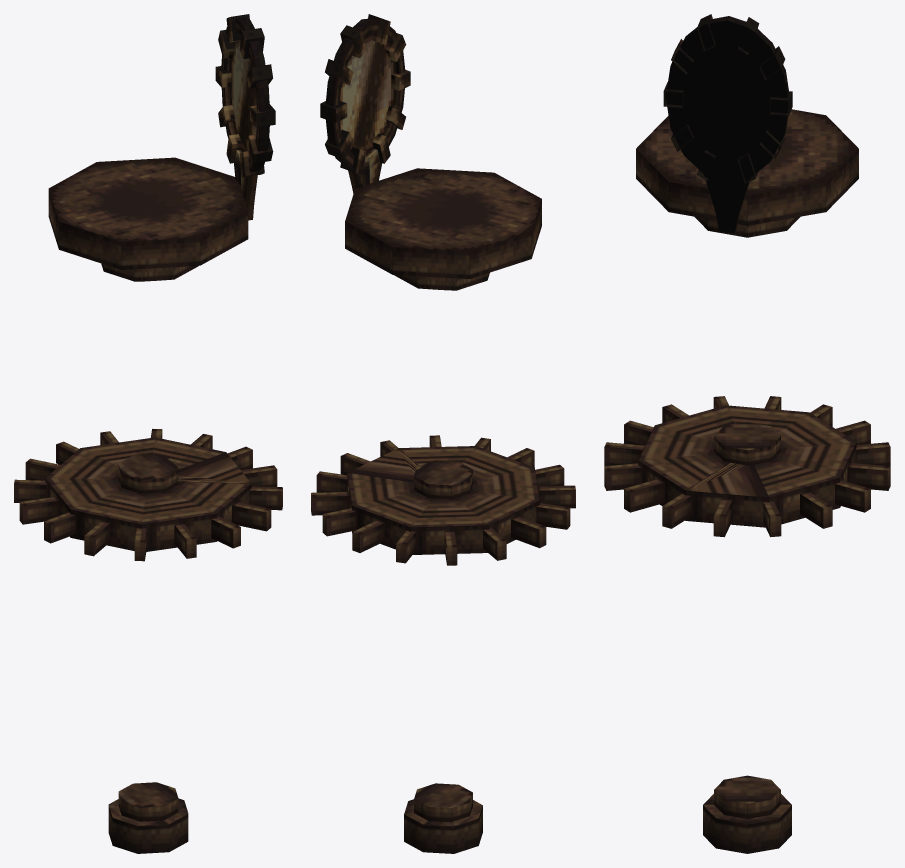
Rendered from EnvBdgMD_Sea_Lighthouse_Gear_A.FBX.
3 renders of one model, left to right at view 1: azimuth 30°, elevation 25°; view 2: azimuth 150°, elevation 25°; view 3: azimuth 270°, elevation 25°, orthographic. The views are drawn at different scales.
Parts seen in each view (by area): view 1: EnvBdgMD_Sea_Lighthouse_Gear_A; view 2: EnvBdgMD_Sea_Lighthouse_Gear_A; view 3: EnvBdgMD_Sea_Lighthouse_Gear_A.
Part boxes in pixels (left/top/right/bottom): EnvBdgMD_Sea_Lighthouse_Gear_A: left=14, top=14, right=282, bottom=853; EnvBdgMD_Sea_Lighthouse_Gear_A: left=311, top=14, right=575, bottom=853; EnvBdgMD_Sea_Lighthouse_Gear_A: left=604, top=14, right=890, bottom=853.
Size of the model in its own units: 257 by 855 by 257.
1 material, 1 textured.
